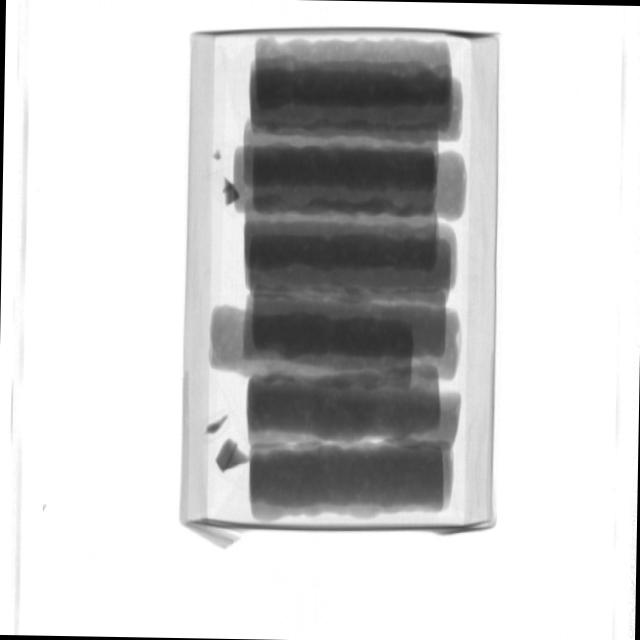ym: (216, 440, 249, 475), (222, 177, 241, 210), (206, 416, 226, 433), (213, 151, 223, 162)
